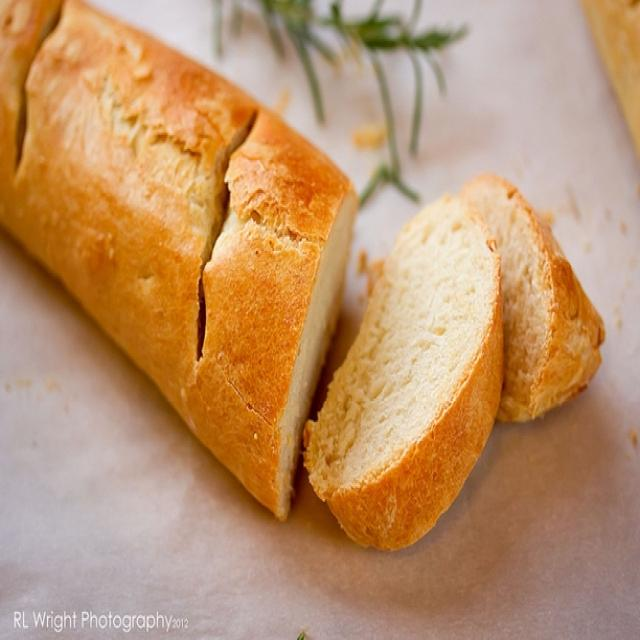面包点心: (1, 2, 623, 599)
